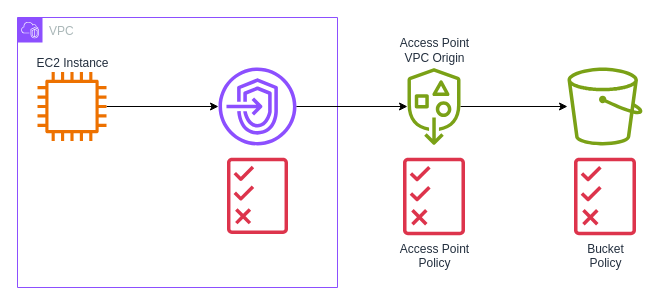
This 660x305 diagram has some shape labels left out. The shapes that lost their labels are listed below. From the top down, each one's centre as x and y in pixels, then its label:
At point (257, 106): "VPC Endpoint".
At point (604, 106): "S3 Bucket".
At point (257, 195): "Endpoint Policy".
